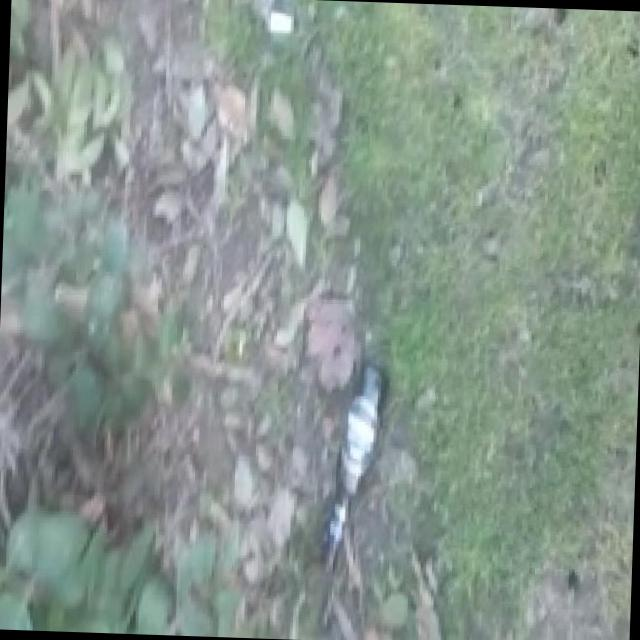BotolKaca: (317, 360, 406, 574)
